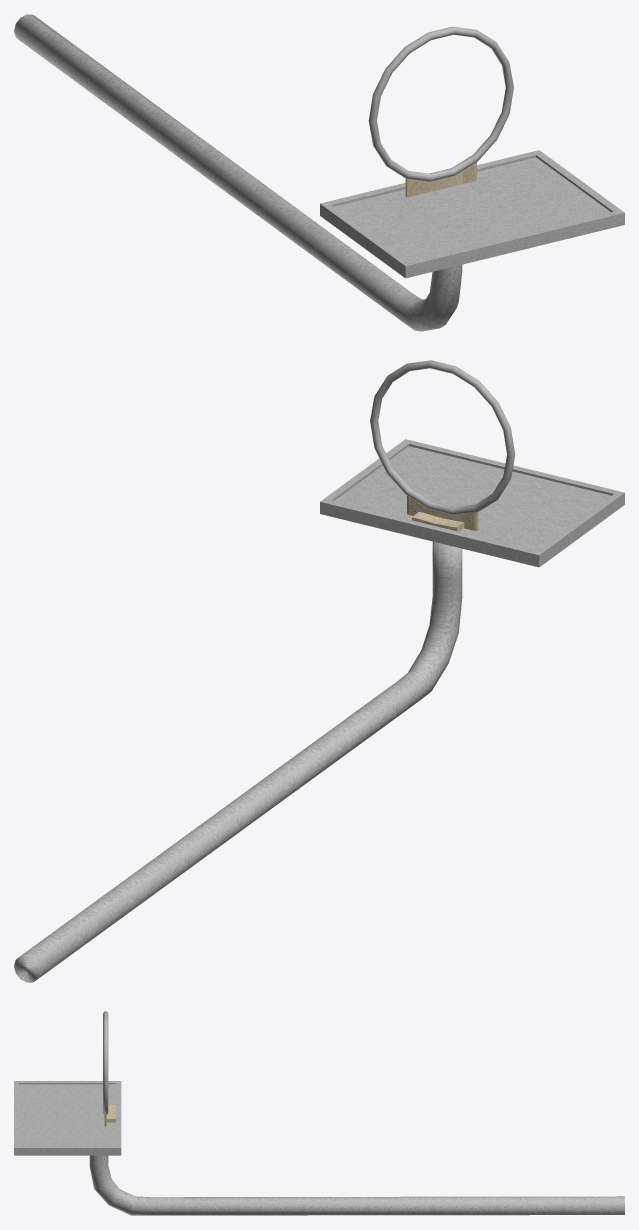
Rendered from hoop placeholder rec2.0.fbx.
3 views of the same model, one above another, from view 1: azimuth 30°, elevation 25°; view 2: azimuth 150°, elevation 25°; view 3: azimuth 270°, elevation 25° (orthographic). The views are drawn at different scales.
Parts seen in each view (by area): view 1: Cube, Cylinder.002, Torus.002, Cube.001; view 2: Cube, Cylinder.002, Torus.002, Cube.001; view 3: Cylinder.002, Cube, Torus.002.
Part boxes in pixels (x1,y1,x2,y2): Cube: (320, 150, 624, 278); Cylinder.002: (14, 14, 462, 331); Torus.002: (368, 26, 513, 181); Cube.001: (405, 162, 476, 197); Cube: (320, 439, 624, 567); Cylinder.002: (14, 541, 462, 982); Torus.002: (370, 360, 515, 515); Cube.001: (407, 495, 478, 531); Cylinder.002: (89, 1155, 624, 1215); Cube: (14, 1081, 121, 1155); Torus.002: (103, 1011, 108, 1114).
Size of the model in its own units: 2.72 by 3.74 by 10.47.
4 materials, 4 textured.
